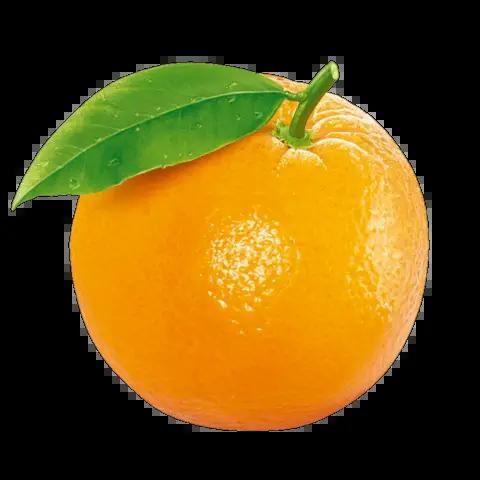non-mango: (9, 50, 442, 439)
